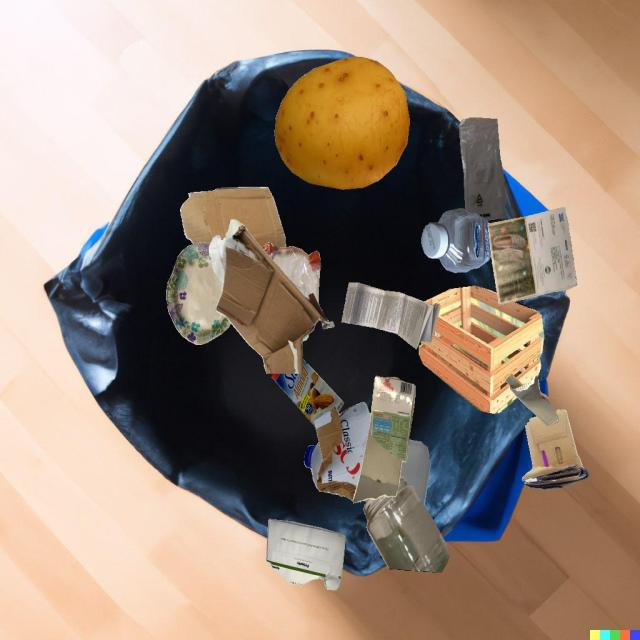biowaste: (274, 57, 410, 189)
cardboard: (209, 219, 334, 374), (353, 376, 415, 503), (166, 242, 231, 345), (180, 187, 286, 248), (314, 402, 371, 502), (522, 409, 590, 489), (272, 358, 344, 427), (505, 373, 559, 426)
combustible waste: (419, 286, 544, 414)
glass: (363, 476, 449, 572)
paper: (488, 207, 577, 305), (341, 283, 440, 349), (266, 519, 346, 591)
plastic: (459, 117, 505, 220), (421, 208, 491, 273), (261, 242, 321, 304), (349, 442, 408, 499), (400, 439, 430, 506), (304, 442, 322, 488)
